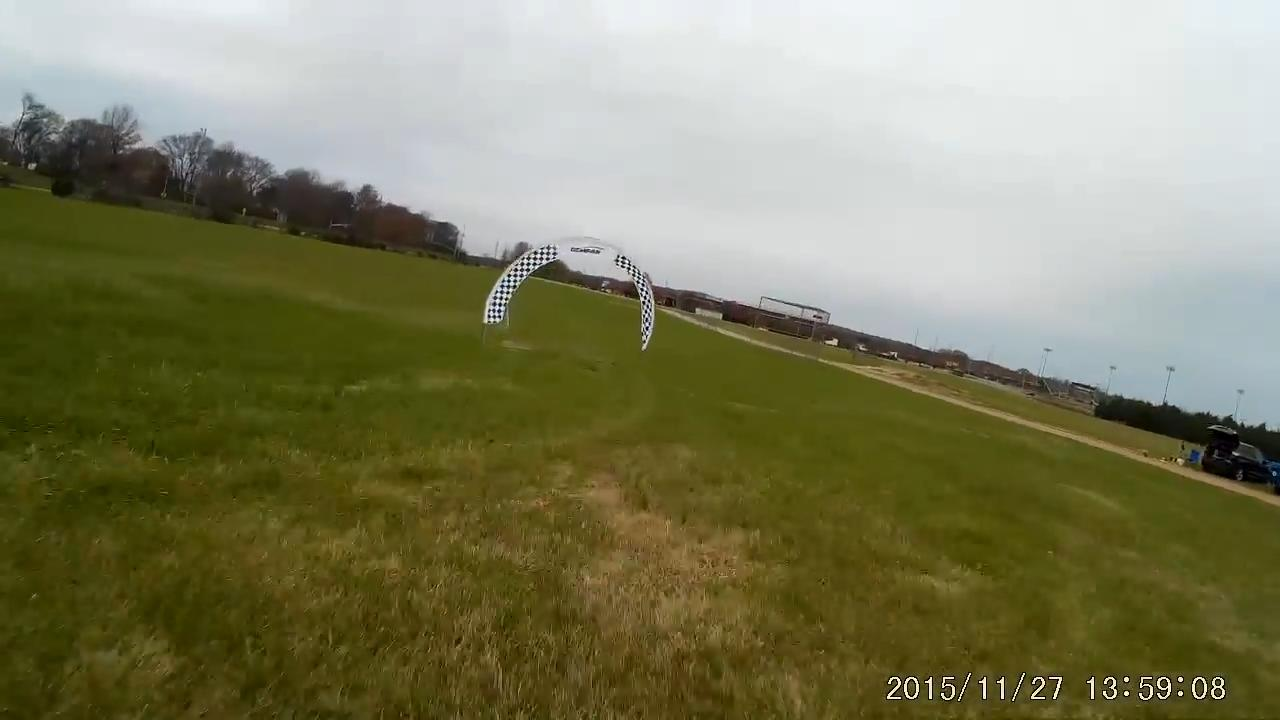gate: (481, 238, 657, 357)
